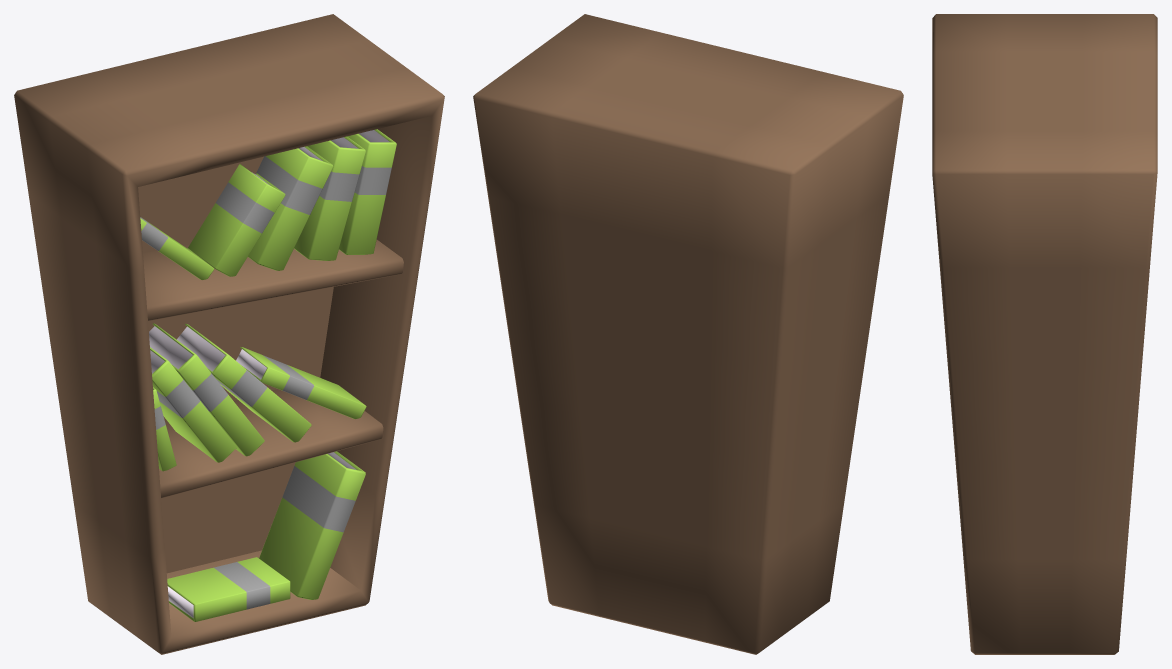
The model's file is props_library.fbx.
3 renders of one model, left to right at view 1: azimuth 30°, elevation 25°; view 2: azimuth 150°, elevation 25°; view 3: azimuth 270°, elevation 25°, orthographic.
Visible parts, largest first — view 1: Library; view 2: Library; view 3: Library.
Part boxes in pixels (x1,y1,x2,y2): Library: (14, 14, 444, 654); Library: (473, 14, 903, 654); Library: (932, 14, 1157, 654).
Size of the model in its own units: 189 by 288 by 114.
